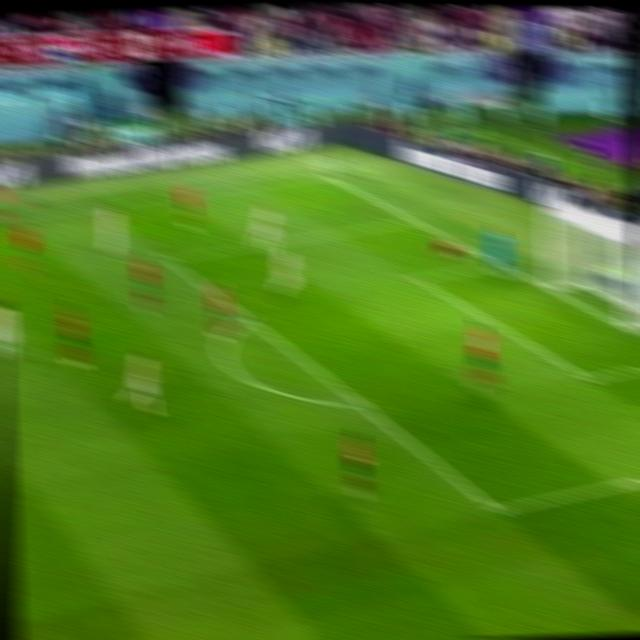bigarea_bottom_inner: (484, 496, 509, 525)
bigarea_top_inner: (158, 250, 180, 270)
bigarea_top_outter: (402, 212, 422, 228)
bottom_arc_area_intersection: (349, 395, 371, 414)
corner: (314, 171, 332, 180)
smallarea_bottom_inner: (576, 366, 602, 391)
smallarea_top_inner: (406, 270, 428, 288)
top_arc_area_intersection: (236, 309, 256, 328)
